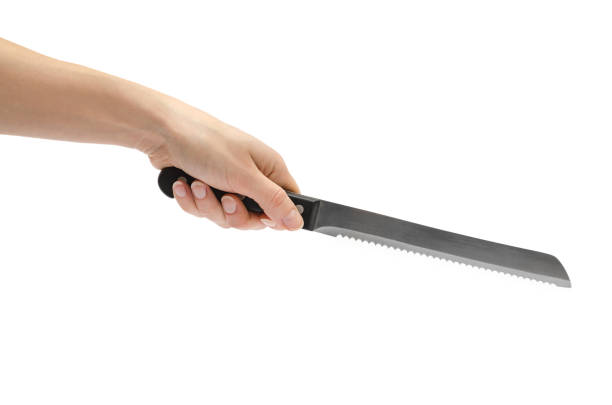knife: (157, 164, 574, 291)
